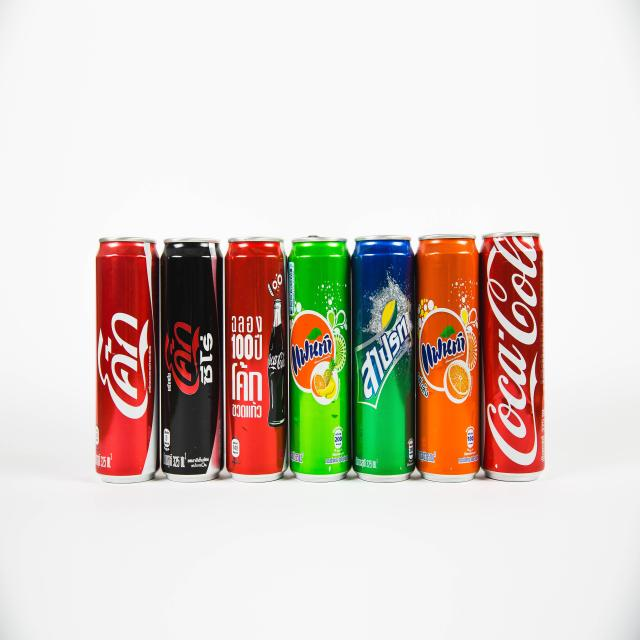can: (478, 231, 546, 483), (94, 235, 160, 483), (415, 234, 480, 483), (224, 235, 289, 482), (160, 237, 225, 482), (288, 236, 352, 482), (351, 236, 415, 482)
